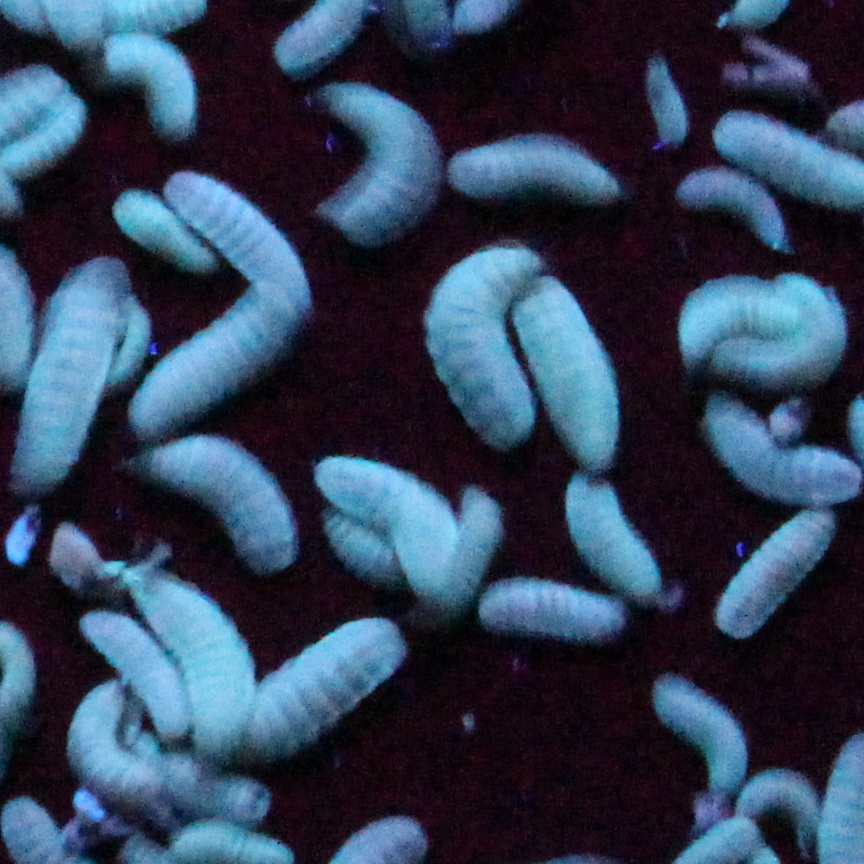larve: (495, 274, 649, 477), (408, 231, 539, 444), (7, 254, 121, 492), (220, 617, 416, 754), (123, 284, 297, 438), (313, 458, 471, 618), (156, 164, 313, 315), (303, 71, 436, 240), (141, 428, 294, 571), (71, 607, 208, 744), (694, 385, 857, 497), (430, 123, 623, 213), (712, 510, 838, 635), (674, 272, 835, 366), (664, 164, 800, 267), (466, 563, 633, 644), (564, 476, 666, 607), (94, 25, 207, 138), (644, 679, 749, 795), (105, 181, 226, 272)
